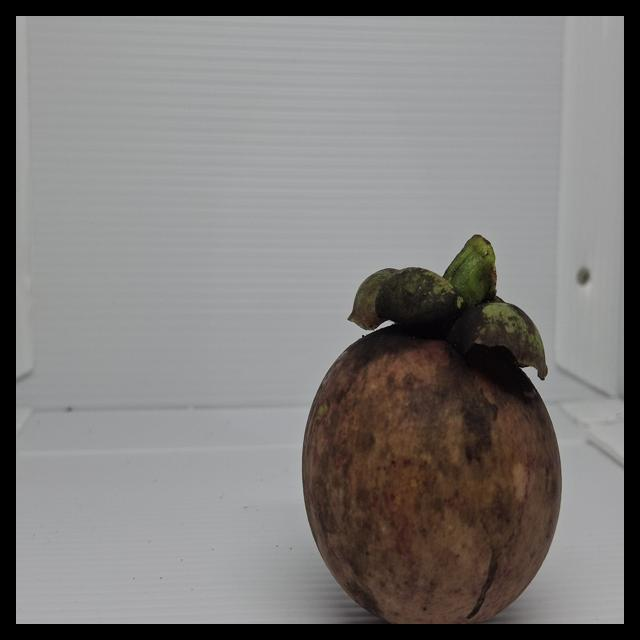mangosteen: (286, 202, 589, 617)
